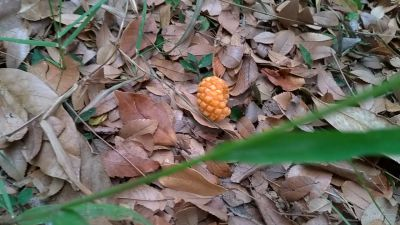eggs: (194, 73, 233, 124)
